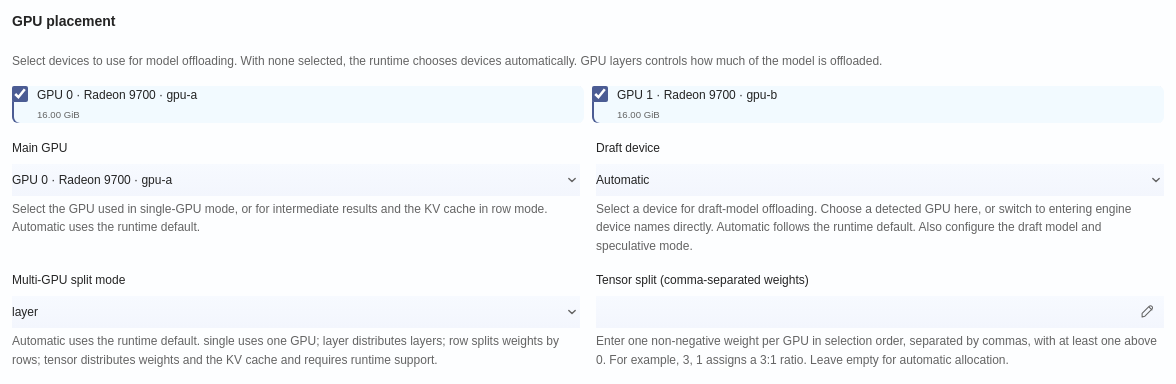
Scenario: DraftGpuEditor linkage › keeps the automatic choice for the draft device, which is genuinely optional
What coordinates should you click on to do the following:
click the dropdown named "Draft device"
I would click on:
 (623, 180)
Its box is [596,164,1164,196].
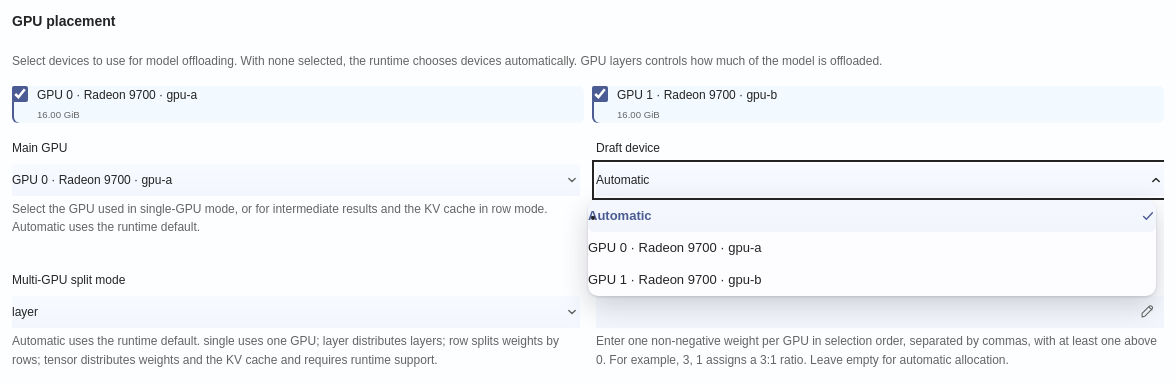
Check: the option "Automatic" is shown, box [588,200,1156,232]
